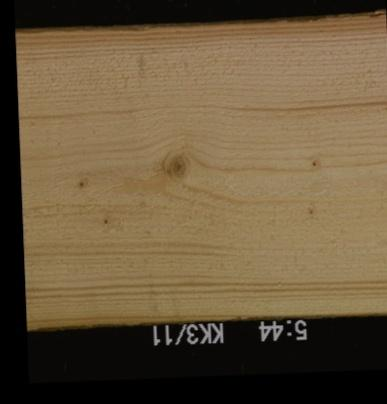small_knot: (309, 159, 318, 167), (306, 207, 314, 215), (102, 217, 107, 224)
sound_knot: (166, 150, 187, 179), (75, 176, 89, 191)
